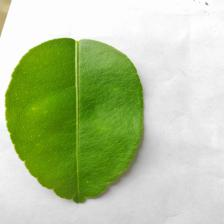greening: (2, 35, 146, 203)
